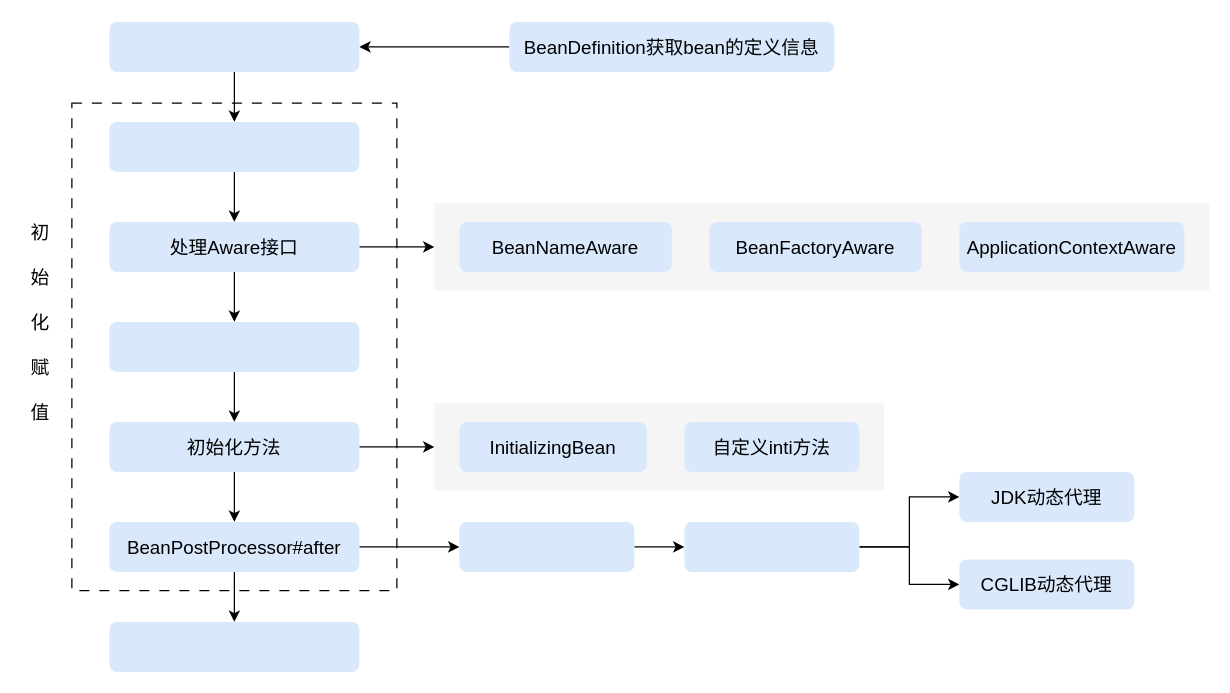
Some shapes in this 1230 by 693 pixel diagram are drawn without their labels. Each missing label, with the box of its shape:
AOP: (459, 521, 634, 571)
BeanPostProcessor#before: (109, 321, 359, 371)
bean的依赖注入: (109, 121, 359, 171)
动态代理: (684, 521, 859, 571)
构造函数实例化bean: (109, 21, 359, 71)
销毁Bean: (109, 621, 359, 671)
